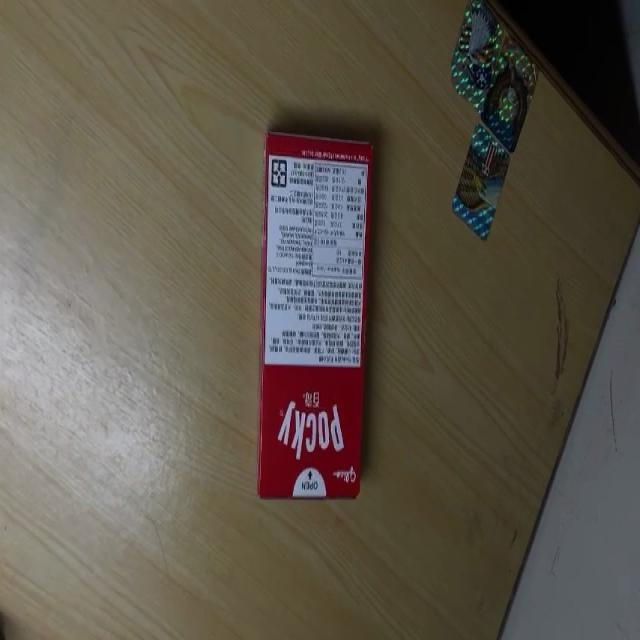Pocky: (254, 125, 374, 509)
